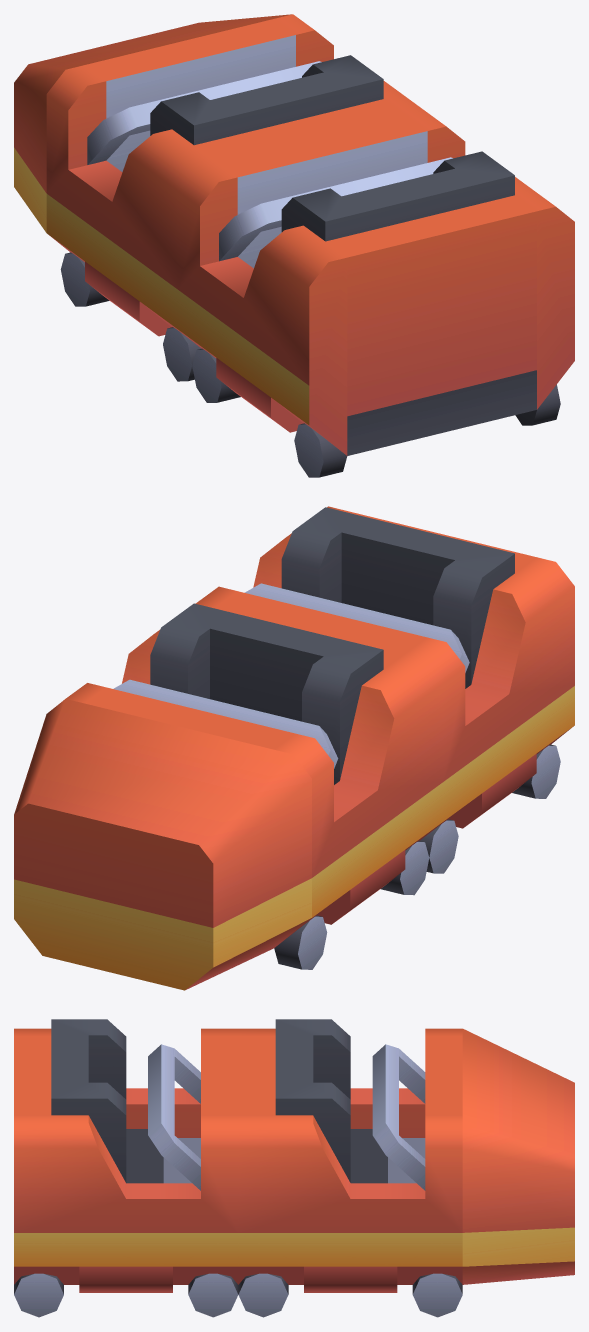
The model's file is coaster-train-front.glb.
The picture shows the model from 3 angles, top to bottom: view 1: azimuth 30°, elevation 25°; view 2: azimuth 150°, elevation 25°; view 3: azimuth 270°, elevation 25°; orthographic projection. The views are drawn at different scales.
Visible parts, largest first — view 1: coaster-train-front; view 2: coaster-train-front; view 3: coaster-train-front.
Part boxes in pixels (x1,y1,x2,y2): coaster-train-front: [14, 14, 574, 477]; coaster-train-front: [14, 506, 574, 990]; coaster-train-front: [14, 1019, 574, 1317].
Size of the model in its own units: 0.6999 by 0.6169 by 1.5.
1 material, 1 textured.
